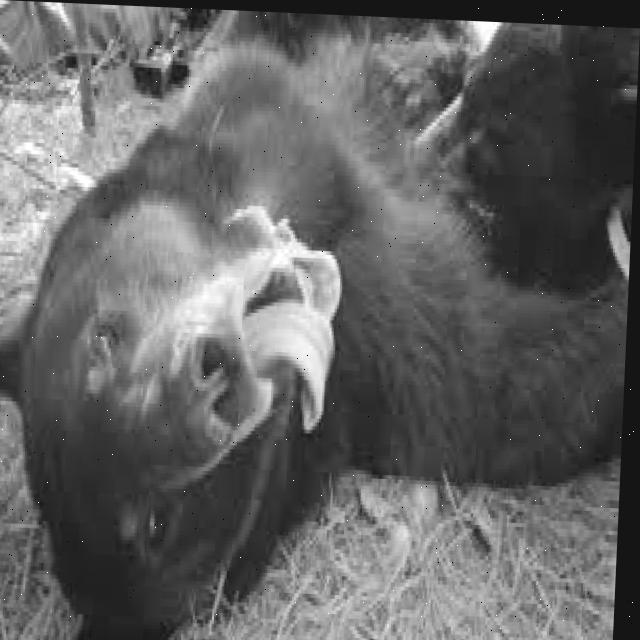Bear: (0, 3, 640, 640)
